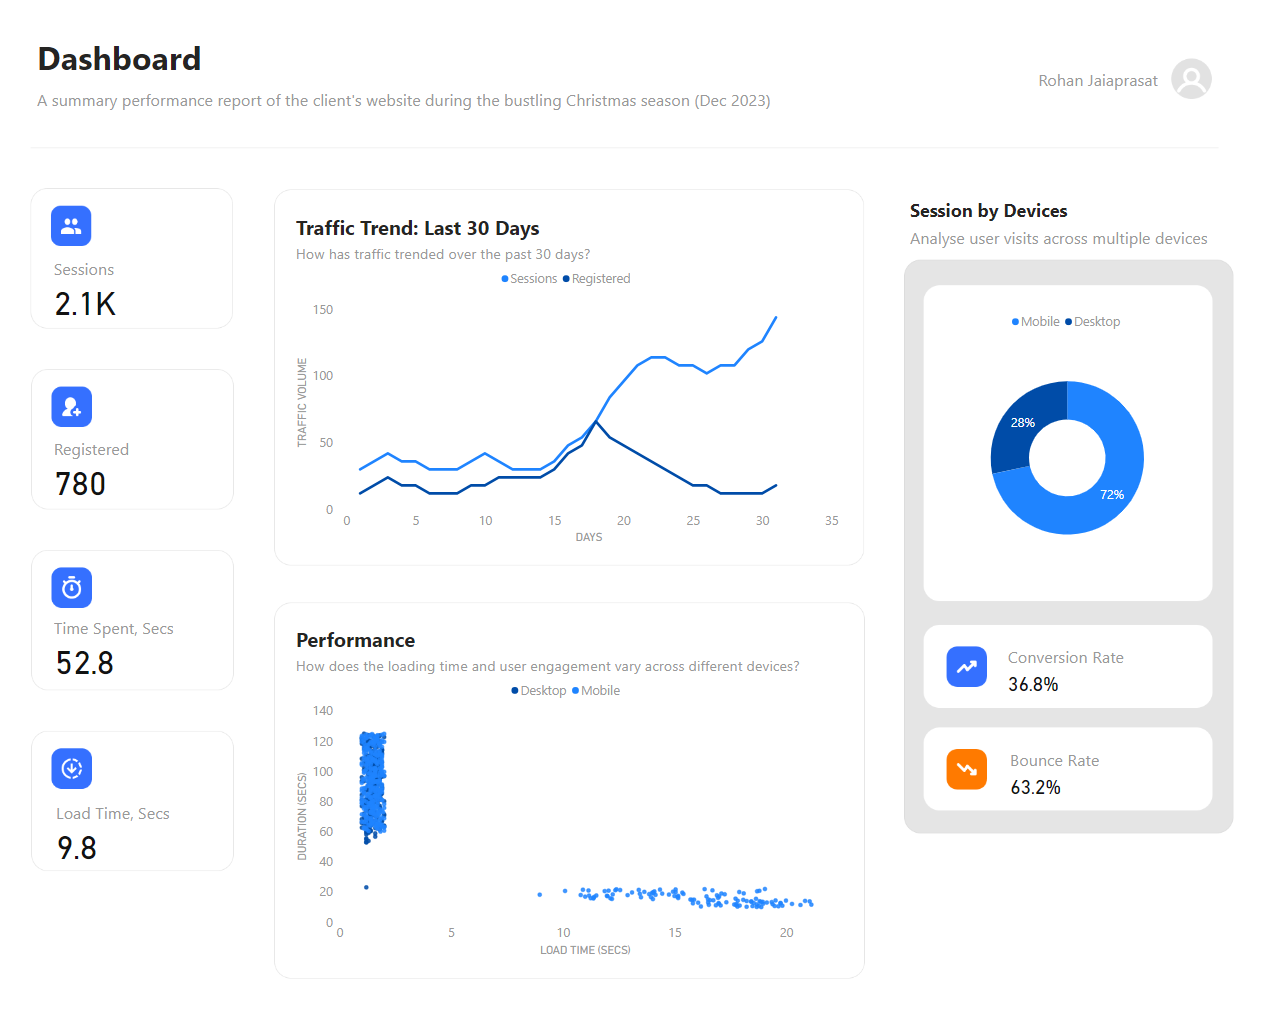

Layout of this report page (visuals, bound fields, positions):
{"tool":"powerbi","page":{"name":"Report","canvas":[1920,1580],"ordinal":0},"visuals":[{"type":"textbox","title":"Main Title","box":[72,62,297.5,80],"z":0,"group":"g2"},{"type":"textbox","title":"Main Title","box":[1367.5,302.5,297.5,52.5],"z":0},{"type":"cardVisual","title":"Session Card (new)","fields":{"Data":["Measure.Sessions"]},"box":[71.7,383.3,296.7,123.3],"z":0,"group":"g1"},{"type":"textbox","title":"Subtitle","box":[73.6,143.3,1310,74],"z":1000,"group":"g2"},{"type":"textbox","title":"Subtitle","box":[1367.5,347.5,470,42.5],"z":1000},{"type":"cardVisual","title":"Registered Card (new)","fields":{"Data":["Measure.Registered"]},"box":[71.7,650,296.7,123.3],"z":1000,"group":"g1"},{"type":"textbox","title":"User","box":[1554.8,112.1,205,60],"z":2000,"group":"g2"},{"type":"cardVisual","title":"Time Spent Card (new)","fields":{"Data":["Measure.Time Spent"]},"box":[72.5,917.5,295,122.5],"z":2000,"group":"g1"},{"type":"cardVisual","title":"Load Time Card (new)","fields":{"Data":["Measure.Load Time"]},"box":[73.4,1188.3,295,121.7],"z":3000,"group":"g1"},{"type":"cardVisual","title":"Conversion Rate Card (new)","fields":{"Data":["Measure.Conversion Rate"]},"box":[1488,962.8,296,86],"z":4500},{"type":"cardVisual","title":"Bounce Rate Card (new)","fields":{"Data":["Measure.Bounce Rate"]},"box":[1490,1115.8,295,82.5],"z":4750},{"type":"donutChart","title":"Device Usage","fields":{"Y":["Measure.Sessions"],"Category":["Device.name"]},"box":[1420,470,370,415],"z":4773},{"type":"scatterChart","title":"Performance","fields":{"X":["Measure.Load Time"],"Y":["Session.view_time"],"Series":["Device.name"]},"box":[456,942,814,494],"z":4796},{"type":"lineChart","title":"Traffic Trend: Last 30 Days","fields":{"Y":["Measure.Sessions","Measure.Registered"],"Category":["Calendar.Date.Variation.Date Hierarchy.Day"]},"box":[455,332.5,815,492.5],"z":4843},{"type":"group","id":"g1","title":"Metrics","box":[71.7,383.3,296.7,926.7],"z":4875},{"type":"group","id":"g2","title":"Header","box":[72,62,1688,156],"z":5000}]}

Visuals, with their boxes in screenshot pixels (x1, y1, x2, y2), scaled from the page's 1920x1580 canvas onto the 1267x1031 screenshot:
"Main Title" textbox: Rect(48, 40, 244, 93)
"Main Title" textbox: Rect(902, 197, 1099, 232)
"Session Card (new)" cardVisual: Rect(47, 250, 243, 331)
"Subtitle" textbox: Rect(49, 94, 913, 142)
"Subtitle" textbox: Rect(902, 227, 1213, 254)
"Registered Card (new)" cardVisual: Rect(47, 424, 243, 505)
"User" textbox: Rect(1026, 73, 1161, 112)
"Time Spent Card (new)" cardVisual: Rect(48, 599, 243, 679)
"Load Time Card (new)" cardVisual: Rect(48, 775, 243, 855)
"Conversion Rate Card (new)" cardVisual: Rect(982, 628, 1177, 684)
"Bounce Rate Card (new)" cardVisual: Rect(983, 728, 1178, 782)
"Device Usage" donutChart: Rect(937, 307, 1181, 577)
"Performance" scatterChart: Rect(301, 615, 838, 937)
"Traffic Trend: Last 30 Days" lineChart: Rect(300, 217, 838, 538)
"Metrics" group: Rect(47, 250, 243, 855)
"Header" group: Rect(48, 40, 1161, 142)
